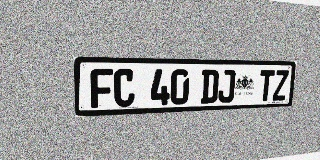0: (170, 69, 189, 105)
4: (150, 69, 170, 106)
C: (114, 69, 135, 107)
D: (200, 69, 219, 104)
F: (90, 69, 113, 108)
J: (218, 69, 236, 103)
T: (258, 70, 275, 101)
Z: (272, 70, 289, 101)
